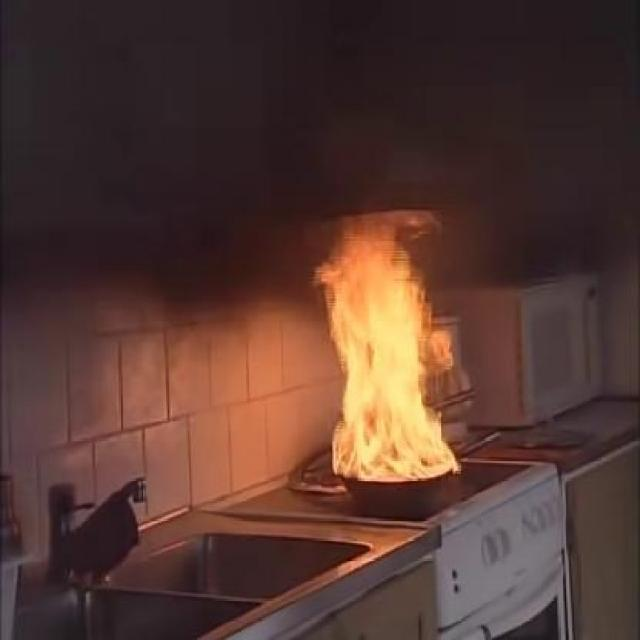fire: (312, 233, 459, 476)
smoke: (356, 64, 482, 192), (198, 191, 282, 357)
